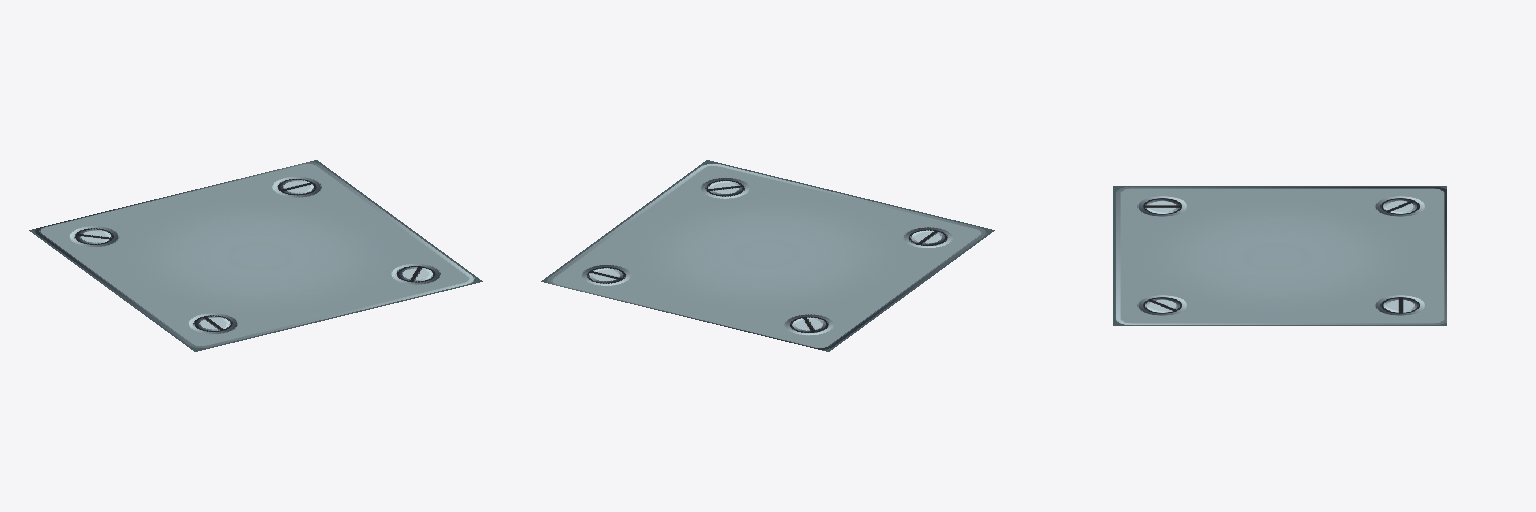
3 views of the same model, side by side, from view 1: azimuth 30°, elevation 25°; view 2: azimuth 150°, elevation 25°; view 3: azimuth 270°, elevation 25° (orthographic).
Parts seen in each view (by area): view 1: Floor_Block_Cube; view 2: Floor_Block_Cube; view 3: Floor_Block_Cube.
Boxes of the visible parts, x1,y1,x2,y2 form: Floor_Block_Cube: [29, 160, 482, 351]; Floor_Block_Cube: [541, 160, 994, 351]; Floor_Block_Cube: [1113, 186, 1446, 325].
Bounding box in the file's own units: 2 × 0 × 2.
1 materials, 1 textured.